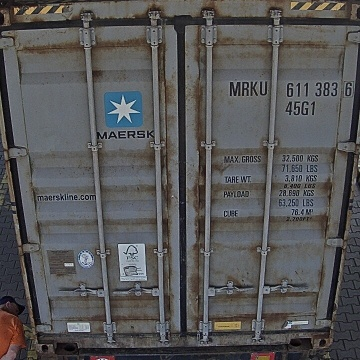serial_id: (230, 81, 353, 96)
